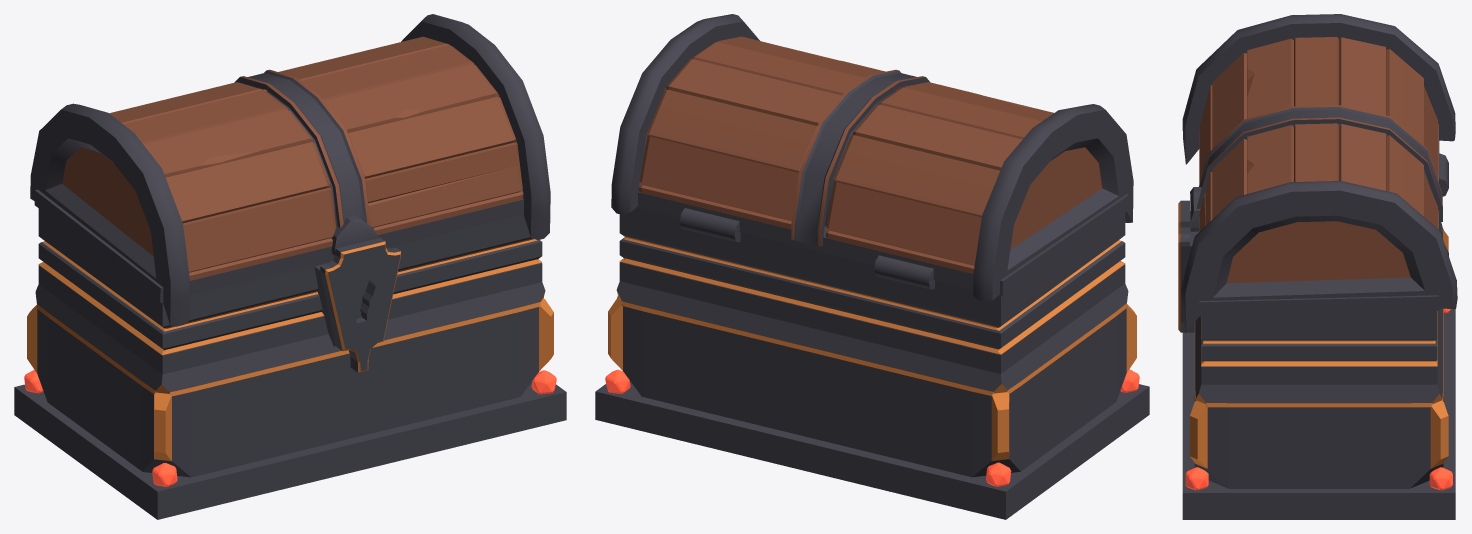
The model's file is Chest.fbx.
3 views of the same model, side by side, from view 1: azimuth 30°, elevation 25°; view 2: azimuth 150°, elevation 25°; view 3: azimuth 270°, elevation 25° (orthographic). The views are drawn at different scales.
Visible parts, largest first — view 1: Cube.001, Cube.003, Cube.002, Icosphere; view 2: Cube.001, Cube.003, Cube.002, Cylinder, Icosphere; view 3: Cube.001, Cube.002, Cube.003, Icosphere, Cylinder.
Boxes of the visible parts, box(x1,y1,x2,y2) form: Cube.001: box(14, 208, 566, 519); Cube.003: box(109, 36, 523, 280); Cube.002: box(30, 14, 550, 326); Icosphere: box(24, 370, 556, 486); Cube.001: box(595, 207, 1149, 519); Cube.003: box(639, 36, 1053, 273); Cube.002: box(611, 14, 1133, 301); Cylinder: box(679, 208, 934, 289); Icosphere: box(605, 369, 1139, 486); Cube.001: box(1178, 200, 1455, 519); Cube.002: box(1181, 14, 1457, 332); Cube.003: box(1199, 37, 1438, 231); Icosphere: box(1185, 308, 1452, 490); Cylinder: box(1439, 153, 1448, 255).
Bounding box in the file's own units: 35.51 × 22.01 × 28.41.
